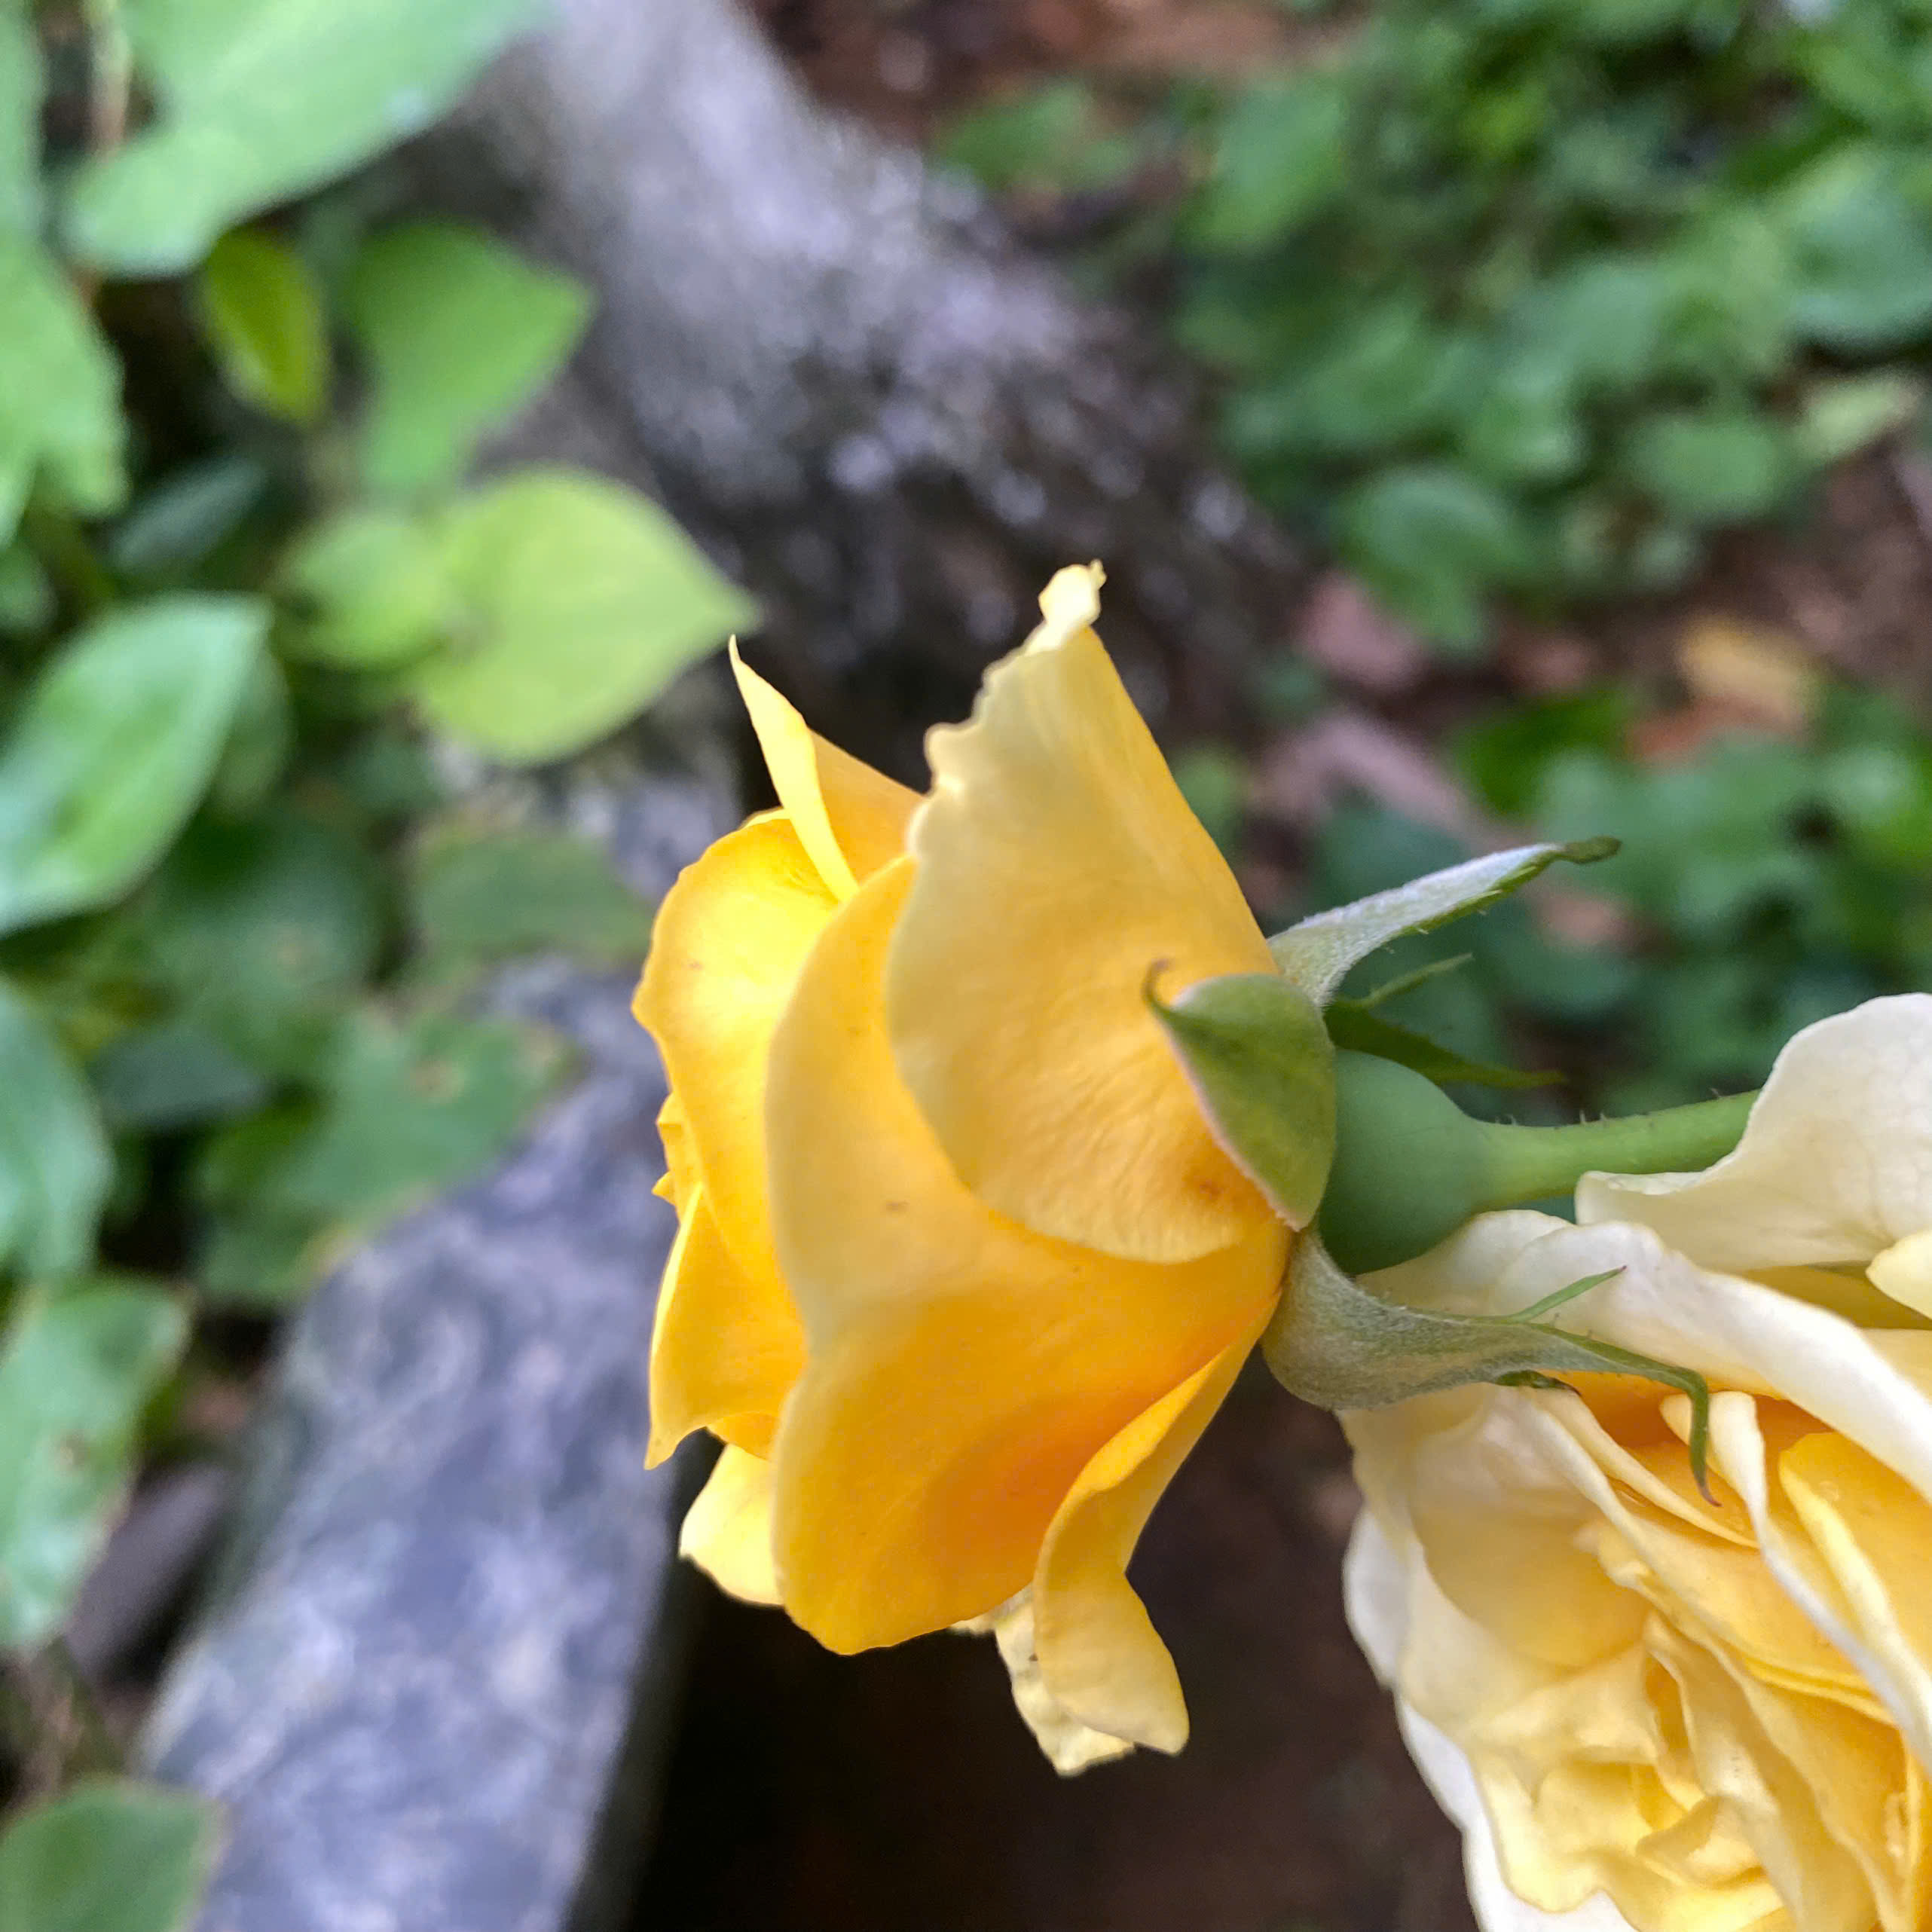hoa_thuoc_duoc: (541, 547, 1930, 1932)
